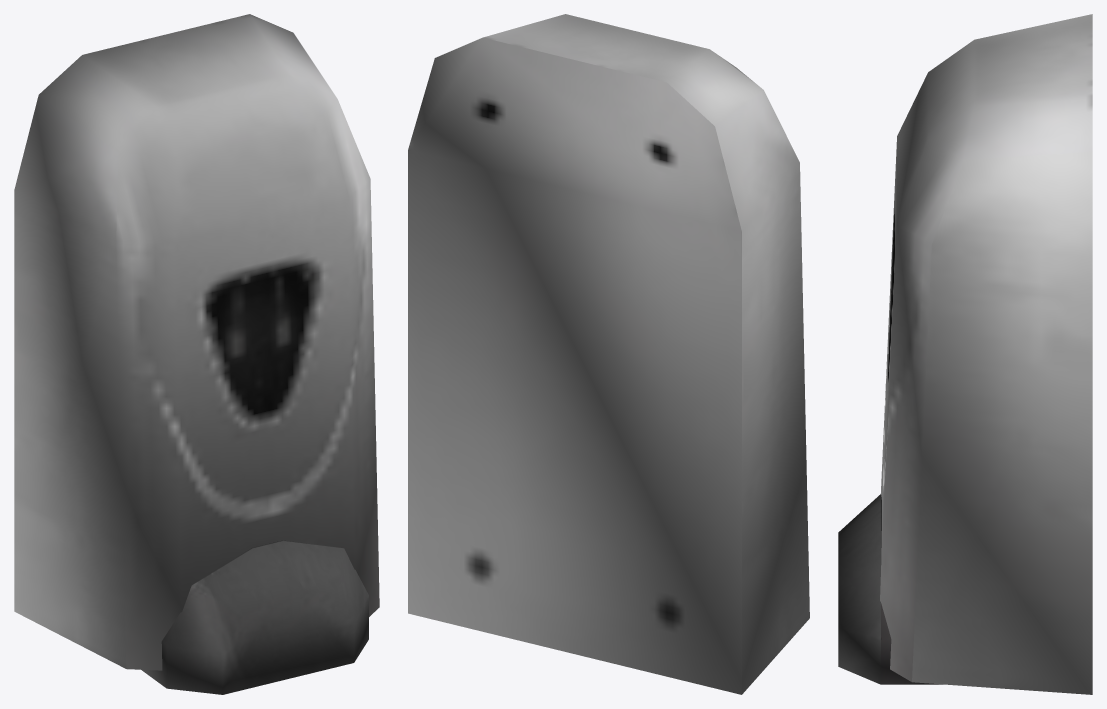
Rendered from Soap_dispenser.dae.
The picture shows the model from 3 angles, left to right: view 1: azimuth 30°, elevation 25°; view 2: azimuth 150°, elevation 25°; view 3: azimuth 270°, elevation 25°; orthographic projection. The views are drawn at different scales.
Visible parts, largest first — view 1: Soap_dispenser; view 2: Soap_dispenser; view 3: Soap_dispenser.
Boxes of the visible parts, x1,y1,x2,y2 form: Soap_dispenser: [14, 14, 379, 694]; Soap_dispenser: [408, 14, 809, 694]; Soap_dispenser: [838, 14, 1092, 694].
Size of the model in its own units: 0.1678 by 0.1172 by 0.2933.
Materials: 1 (1 with a texture image).
